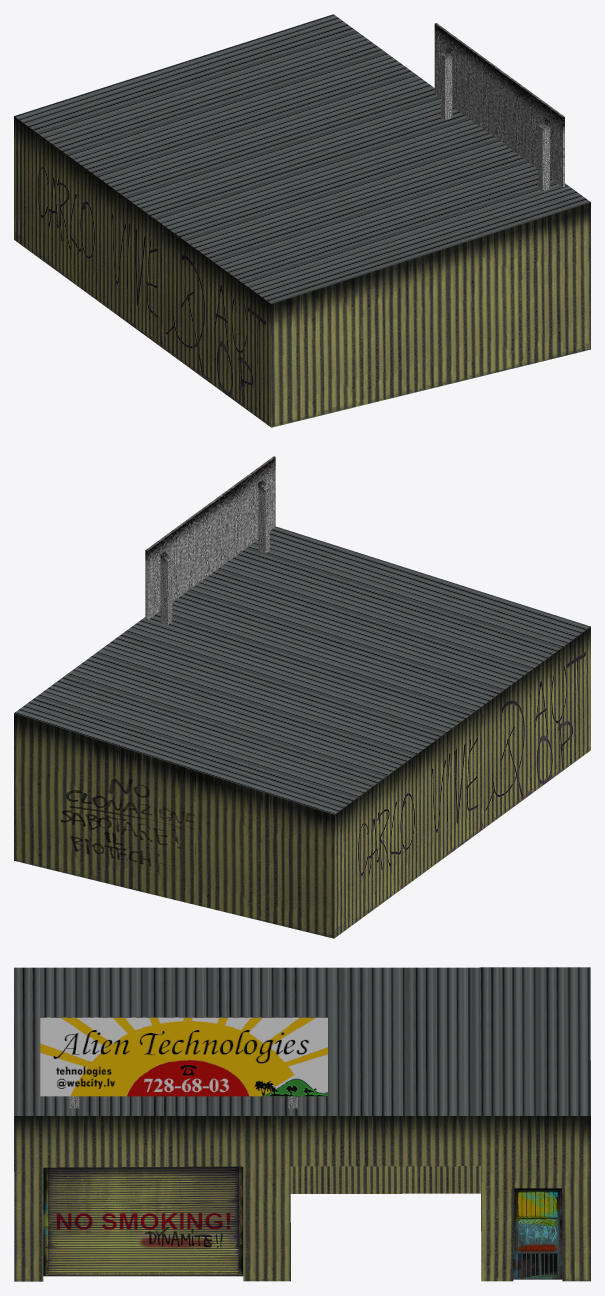
3 renders of one model, top to bottom at view 1: azimuth 30°, elevation 25°; view 2: azimuth 150°, elevation 25°; view 3: azimuth 270°, elevation 25°, orthographic. The views are drawn at different scales.
Visible parts, largest first — view 1: SERVICE; view 2: SERVICE; view 3: SERVICE.
Boxes of the visible parts, x1,y1,x2,y2 form: SERVICE: (14, 14, 590, 427); SERVICE: (14, 456, 590, 938); SERVICE: (14, 967, 590, 1281).
Bounding box in the file's own units: 989 × 672 × 1375.
Materials: 1 (1 with a texture image).
